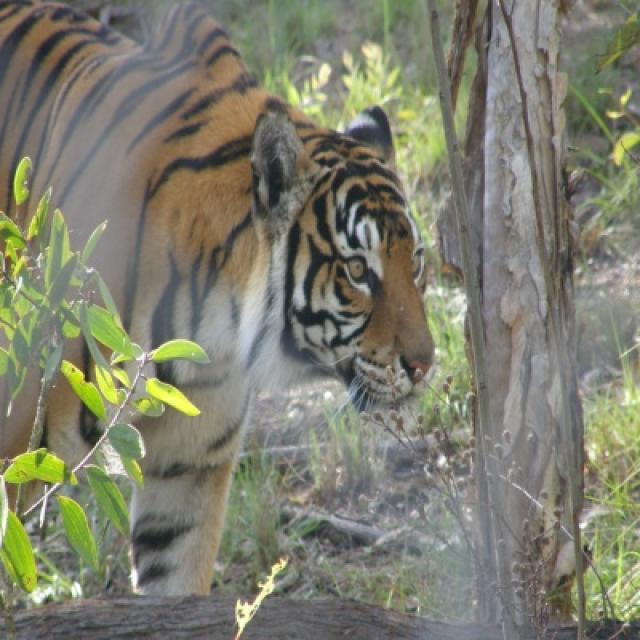Tiger: (0, 0, 434, 592)
